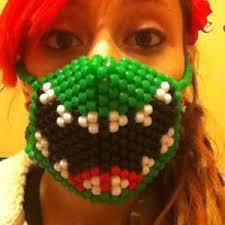OK: (27, 17, 192, 182)
